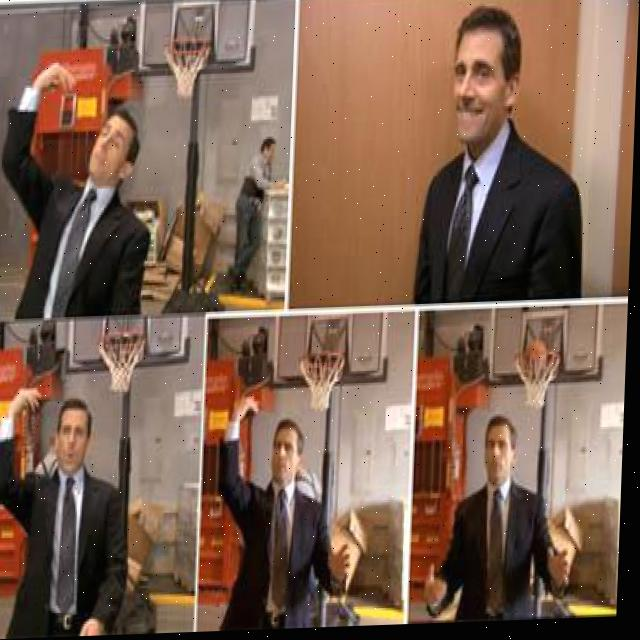basketball: (521, 340, 547, 376)
hoop: (97, 324, 147, 392), (162, 35, 211, 98), (296, 350, 346, 411), (512, 349, 561, 409)
